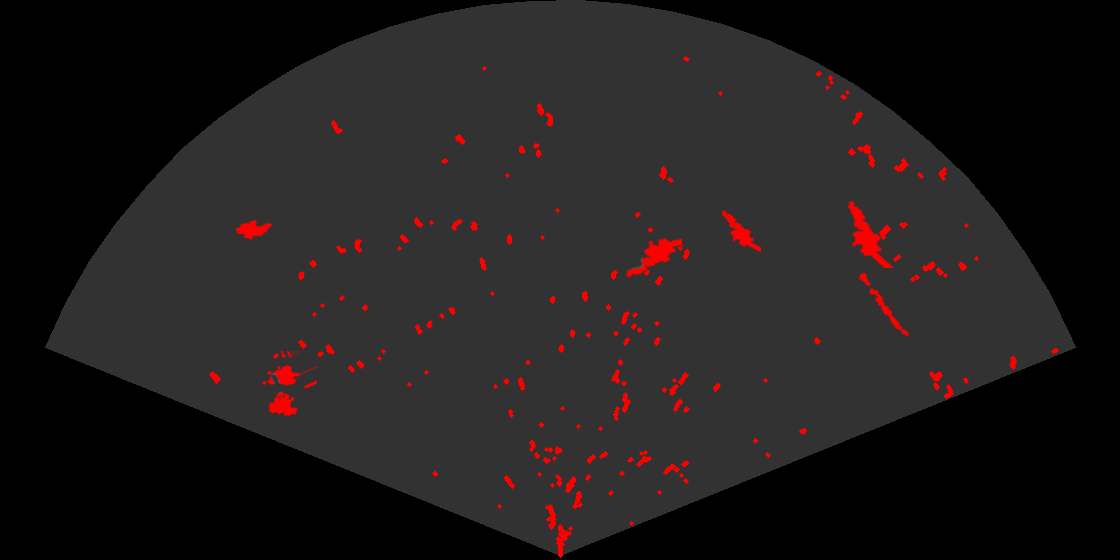AUV: (234, 218, 274, 241)
cage: (261, 351, 317, 418)
chain: (854, 268, 911, 338)
frogman: (846, 199, 896, 268), (624, 236, 682, 279), (711, 206, 761, 253)
